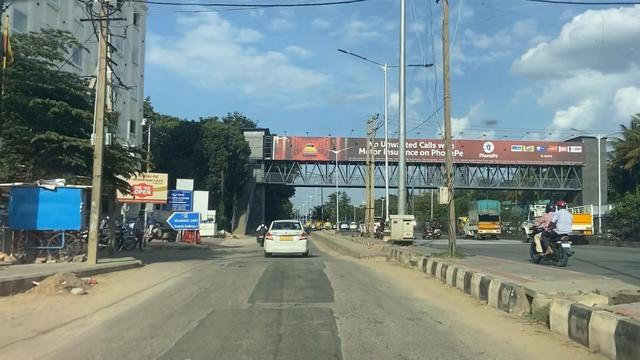LMV: (263, 216, 306, 256)
UnsurfacedRoad: (202, 293, 339, 329)
